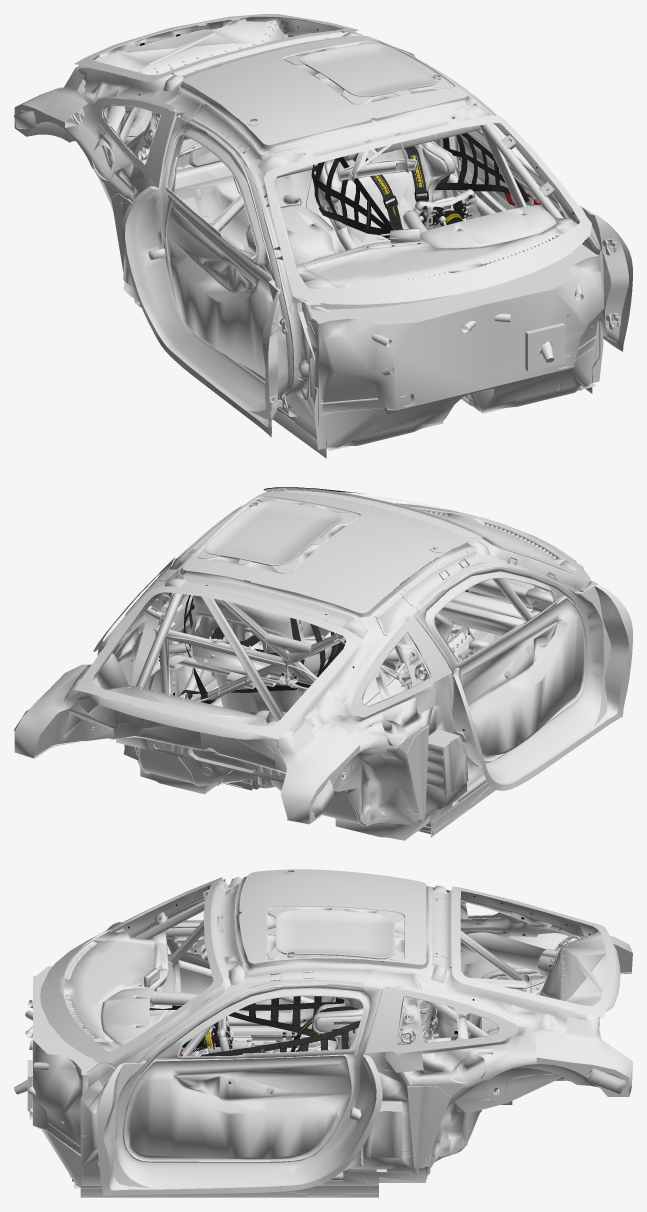
File: gt3r_int.glb
3 views of the same model, one above another, from view 1: azimuth 30°, elevation 25°; view 2: azimuth 150°, elevation 25°; view 3: azimuth 270°, elevation 25° (orthographic). The views are drawn at different scales.
Visible parts, largest first — view 1: object 8, object 9, object 25, object 23, object 29, object 31, object 7, object 1, object 28, object 2, STEER, object 30; view 2: object 8, object 25, object 9, object 23, object 29, object 31, object 28, object 1, object 7; view 3: object 8, object 7, object 25, object 23, object 29, object 1, object 28, object 9, object 31, object 36, object 35, object 4 (+1 smaller).
Part boxes in pixels (x1,y1,x2,y2): object 8: (14, 16, 620, 458); object 9: (121, 116, 288, 437); object 25: (115, 35, 577, 265); object 23: (14, 14, 591, 382); object 29: (296, 205, 563, 288); object 31: (318, 141, 456, 250); object 7: (426, 63, 632, 351); object 1: (311, 133, 543, 240); object 28: (79, 75, 570, 428); object 2: (353, 146, 429, 229); STEER: (415, 189, 475, 230); object 30: (373, 125, 480, 153); object 8: (14, 490, 613, 840); object 25: (125, 492, 552, 725); object 9: (415, 565, 632, 790); object 23: (14, 488, 591, 817); object 29: (410, 506, 578, 606); object 31: (190, 595, 331, 697); object 28: (162, 508, 575, 796); object 1: (180, 577, 408, 703); object 7: (171, 505, 243, 640); object 8: (25, 872, 632, 1197); object 7: (97, 982, 382, 1196); object 25: (96, 869, 469, 1056); object 23: (40, 870, 626, 1184); object 29: (60, 932, 168, 1045); object 1: (149, 961, 383, 1056); object 28: (14, 900, 570, 1094); object 9: (106, 885, 352, 1026); object 31: (312, 996, 363, 1049); object 36: (154, 991, 248, 1052); object 35: (32, 935, 580, 1181); object 4: (178, 995, 363, 1057).
Size of the model in its own units: 1.76 by 1.15 by 2.8.
Materials: 42 (13 with a texture image).
